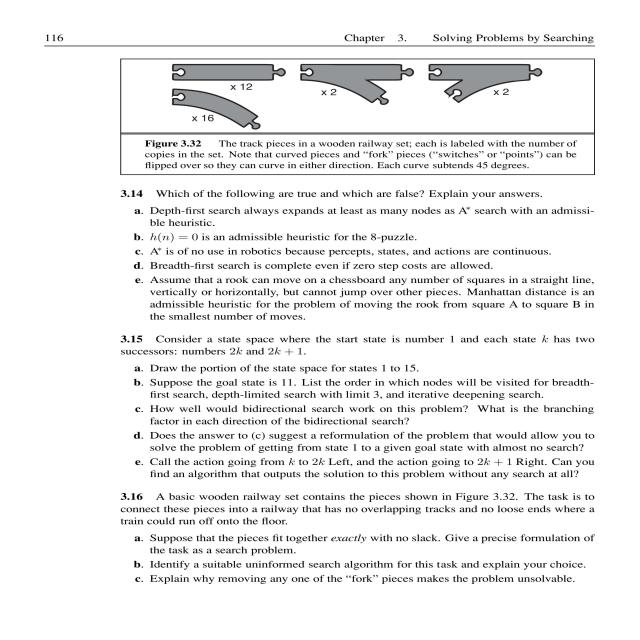diagram: (94, 52, 640, 182)
